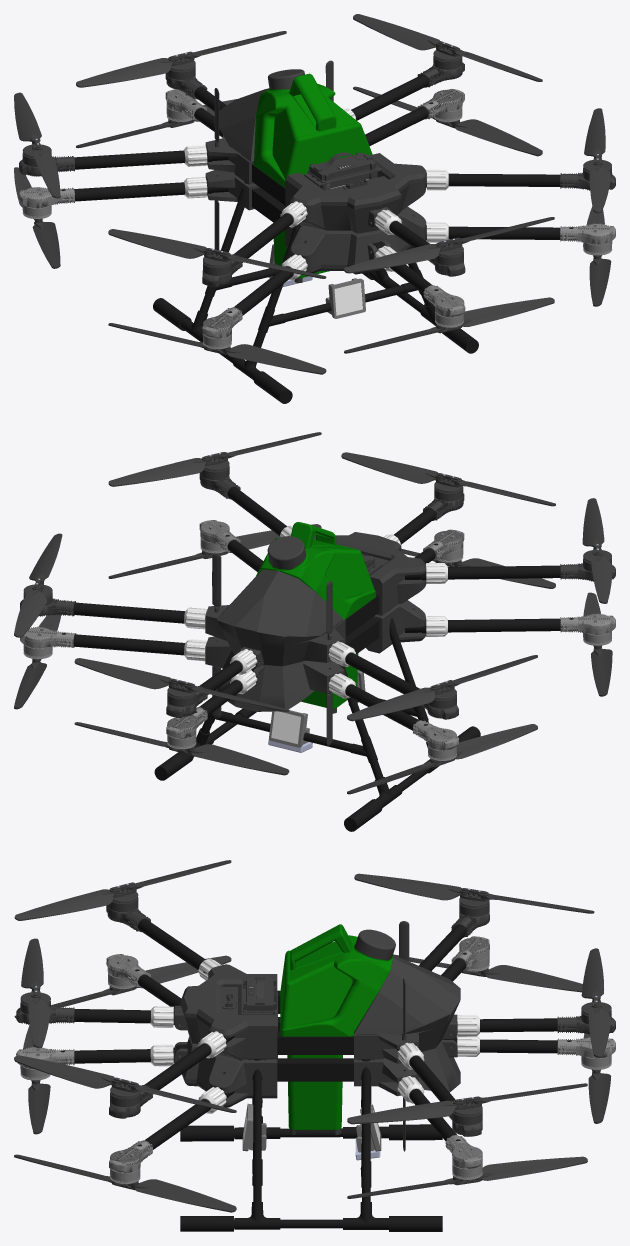
3 renders of one model, top to bottom at view 1: azimuth 30°, elevation 25°; view 2: azimuth 150°, elevation 25°; view 3: azimuth 270°, elevation 25°, orthographic. The views are drawn at different scales.
Visible parts, largest first — view 1: anim_md_3_md_props, object 1, anim_md_2_md_arms, anim_md_0_md_tank, object 2, object 7, anim_md_1_md_gear, object 5, object 6, anim_md_4_md_radar_rear; view 2: anim_md_3_md_props, object 1, anim_md_0_md_tank, anim_md_2_md_arms, object 2, object 7, anim_md_1_md_gear, object 5, object 6; view 3: anim_md_3_md_props, anim_md_0_md_tank, object 1, anim_md_2_md_arms, anim_md_1_md_gear, object 2, object 7, object 5, object 6, anim_md_4_md_radar_rear.
Part boxes in pixels (x1=…): anim_md_3_md_props: x1=14, y1=14, x2=611, y2=374; object 1: x1=205, y1=135, x2=426, y2=274; anim_md_2_md_arms: x1=60, y1=75, x2=573, y2=315; anim_md_0_md_tank: x1=219, y1=69, x2=372, y2=282; object 2: x1=19, y1=50, x2=615, y2=286; object 7: x1=19, y1=88, x2=615, y2=349; anim_md_1_md_gear: x1=153, y1=181, x2=478, y2=403; object 5: x1=183, y1=108, x2=448, y2=280; object 6: x1=242, y1=155, x2=285, y2=230; anim_md_4_md_radar_rear: x1=325, y1=278, x2=365, y2=318; anim_md_3_md_props: x1=14, y1=432, x2=612, y2=794; object 1: x1=205, y1=532, x2=426, y2=745; anim_md_0_md_tank: x1=217, y1=522, x2=375, y2=713; anim_md_2_md_arms: x1=60, y1=487, x2=573, y2=730; object 2: x1=20, y1=461, x2=615, y2=743; object 7: x1=20, y1=520, x2=615, y2=760; anim_md_1_md_gear: x1=154, y1=610, x2=480, y2=831; object 5: x1=184, y1=525, x2=447, y2=698; object 6: x1=322, y1=594, x2=379, y2=653; anim_md_3_md_props: x1=14, y1=860, x2=611, y2=1212; anim_md_0_md_tank: x1=280, y1=924, x2=460, y2=1134; object 1: x1=173, y1=964, x2=460, y2=1151; anim_md_2_md_arms: x1=58, y1=919, x2=573, y2=1149; anim_md_1_md_gear: x1=180, y1=1059, x2=442, y2=1231; object 2: x1=16, y1=892, x2=615, y2=1144; object 7: x1=16, y1=936, x2=615, y2=1184; object 5: x1=150, y1=958, x2=479, y2=1113; object 6: x1=277, y1=990, x2=377, y2=1081; anim_md_4_md_radar_rear: x1=242, y1=1103, x2=266, y2=1151.
Bounding box in the file's own units: 1.37 × 0.6605 × 1.38.
